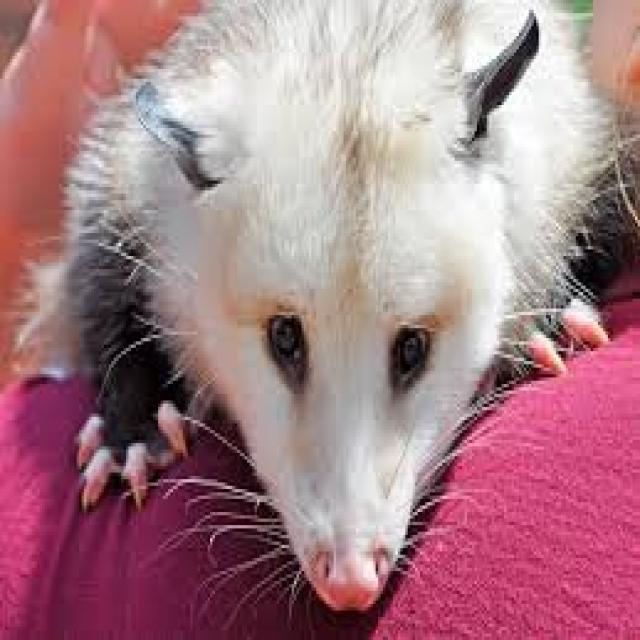Possum: (45, 0, 617, 609)
